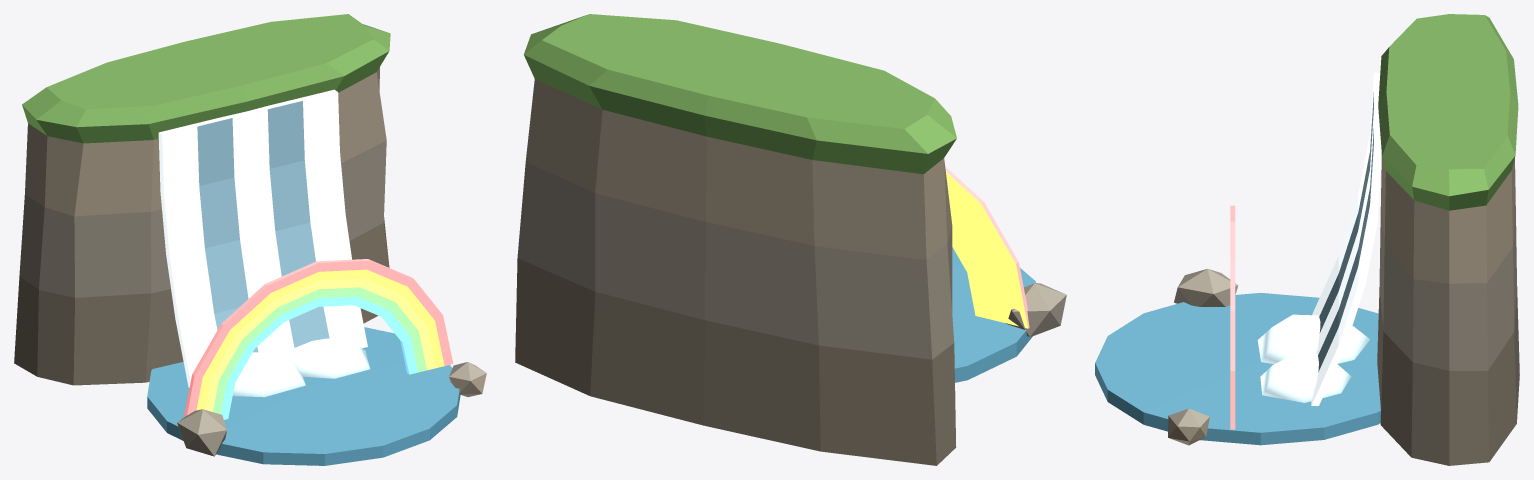
The model's file is falls-mini.glb.
3 renders of one model, left to right at view 1: azimuth 30°, elevation 25°; view 2: azimuth 150°, elevation 25°; view 3: azimuth 270°, elevation 25°, orthographic. The views are drawn at different scales.
Parts seen in each view (by area): view 1: falls-mini; view 2: falls-mini; view 3: falls-mini.
Part boxes in pixels (x1,y1,x2,y2): falls-mini: [14, 14, 486, 465]; falls-mini: [515, 14, 1066, 465]; falls-mini: [1095, 14, 1519, 465].
Size of the model in its own units: 6.92 by 5.07 by 6.79.
